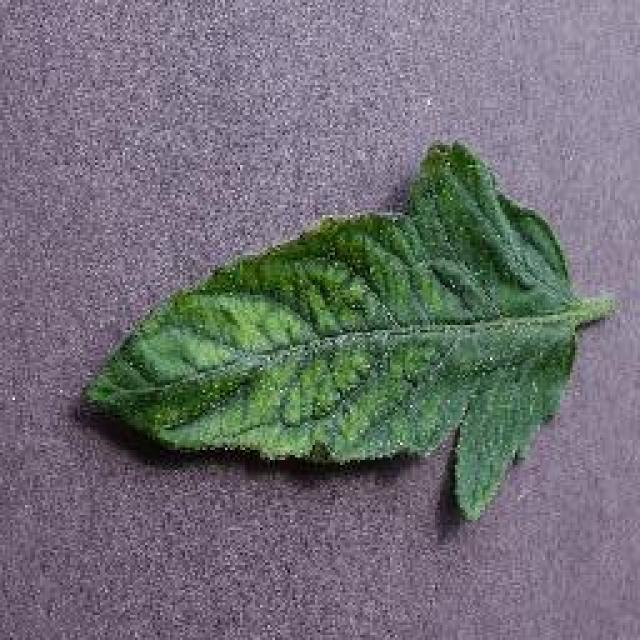Tomato spider mites leaf: (80, 135, 592, 523)
